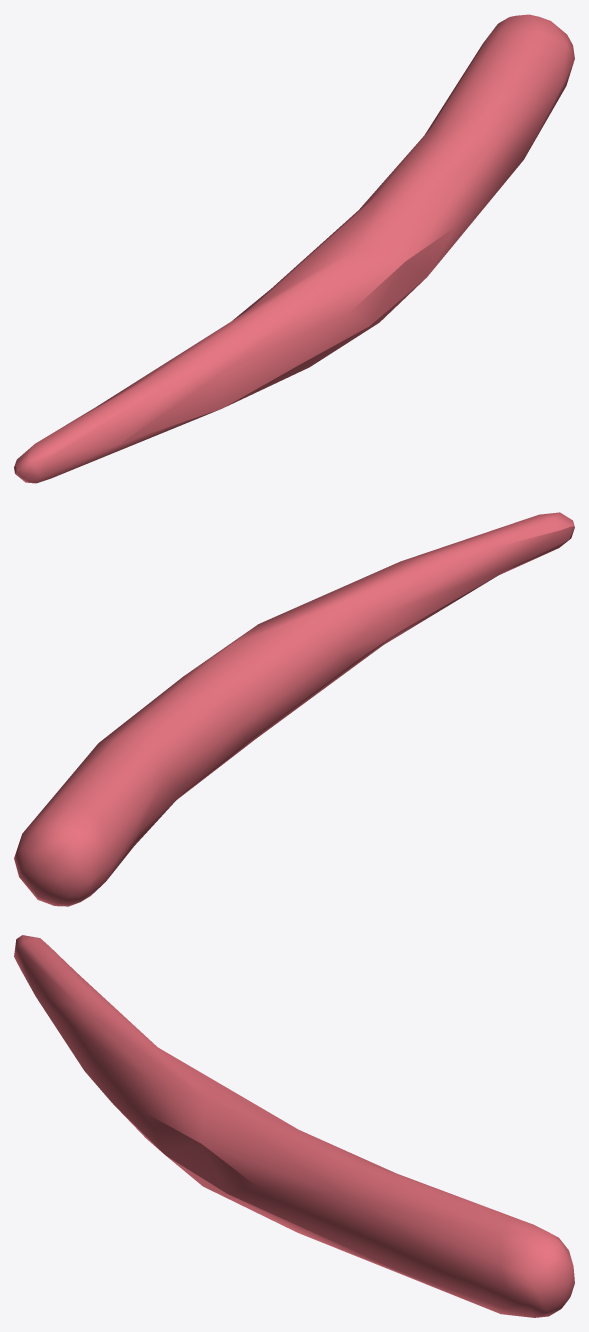
File: fma8665_fj6107.glb
The picture shows the model from 3 angles, top to bottom: view 1: azimuth 30°, elevation 25°; view 2: azimuth 210°, elevation 25°; view 3: azimuth 270°, elevation 25°; orthographic projection.
Parts seen in each view (by area): view 1: FMA8665_FJ6107; view 2: FMA8665_FJ6107; view 3: FMA8665_FJ6107.
Part boxes in pixels (x1,y1,x2,y2): FMA8665_FJ6107: (14, 14, 574, 483); FMA8665_FJ6107: (14, 512, 574, 906); FMA8665_FJ6107: (14, 935, 574, 1317).
Bounding box in the file's own units: 0.0402 × 0.00539 × 0.0245.
